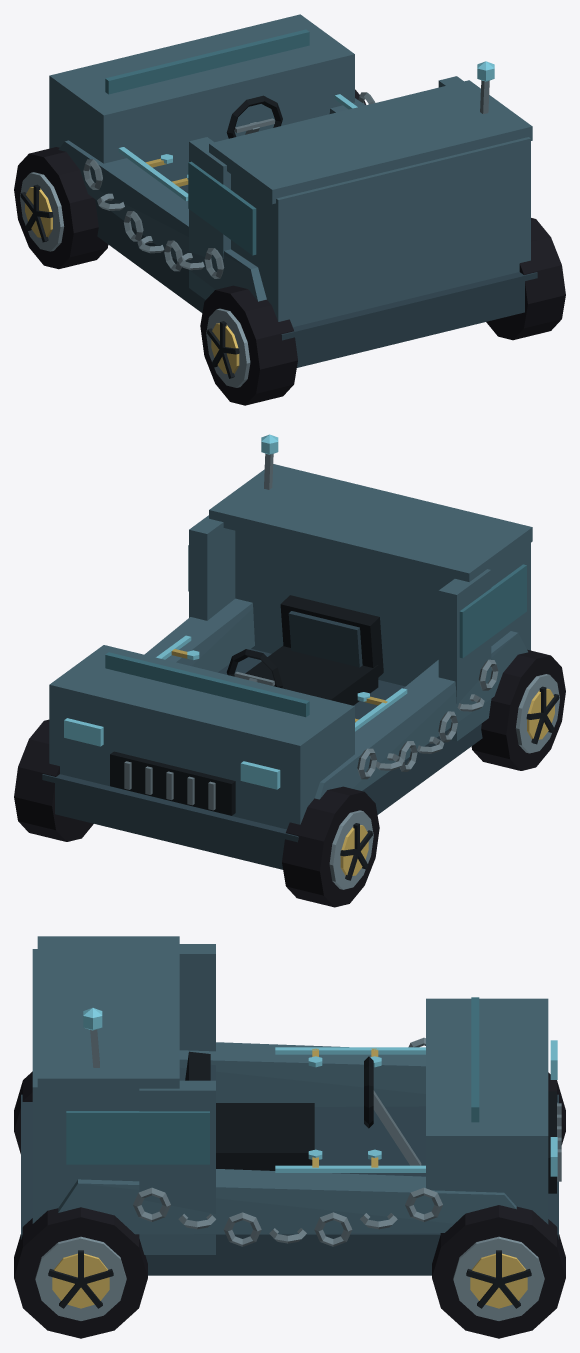
The model's file is kart.glb.
The picture shows the model from 3 angles, top to bottom: view 1: azimuth 30°, elevation 25°; view 2: azimuth 150°, elevation 25°; view 3: azimuth 270°, elevation 25°; orthographic projection. The views are drawn at different scales.
Visible parts, largest first — view 1: identity-van-van-utility-body, wheel-rear-left, wheel-front-left, wheel-rear-right, identity-van-motif-chains, identity-van-motif-circuit, identity-van-driver-cockpit, identity-van-motif-antenna; view 2: identity-van-van-utility-body, identity-van-driver-cockpit, wheel-front-left, wheel-rear-left, wheel-front-right, identity-van-motif-chains, identity-van-motif-circuit, identity-van-motif-antenna; view 3: identity-van-van-utility-body, wheel-front-right, wheel-rear-right, identity-van-driver-cockpit, identity-van-motif-chains, identity-van-motif-circuit, identity-van-motif-antenna, wheel-rear-left.
Part boxes in pixels (x1,y1,x2,y2): identity-van-van-utility-body: (49,14,537,367); wheel-rear-left: (200,285,297,405); wheel-front-left: (14,147,108,269); wheel-rear-right: (486,218,565,340); identity-van-motif-chains: (83,92,375,278); identity-van-motif-circuit: (118,94,357,200); identity-van-driver-cockpit: (226,95,282,138); identity-van-motif-antenna: (477,61,494,114); identity-van-van-utility-body: (42,464,532,869); identity-van-driver-cockpit: (226,595,383,705); wheel-front-left: (282,786,379,907); wheel-rear-left: (471,649,565,770); wheel-front-right: (14,719,93,841); identity-van-motif-chains: (357,659,498,779); identity-van-motif-circuit: (156,635,407,731); identity-van-motif-antenna: (261,434,278,489); identity-van-van-utility-body: (21,936,561,1275); wheel-front-right: (432,1205,565,1338); wheel-rear-right: (14,1207,147,1338); identity-van-driver-cockpit: (185,1051,421,1170); identity-van-motif-chains: (133,1037,442,1246); identity-van-motif-circuit: (275,1047,425,1172); identity-van-motif-antenna: (83,1008,102,1067); wheel-rear-left: (14,1071,32,1153).
Size of the model in its own units: 2.13 by 1.72 by 2.8.
